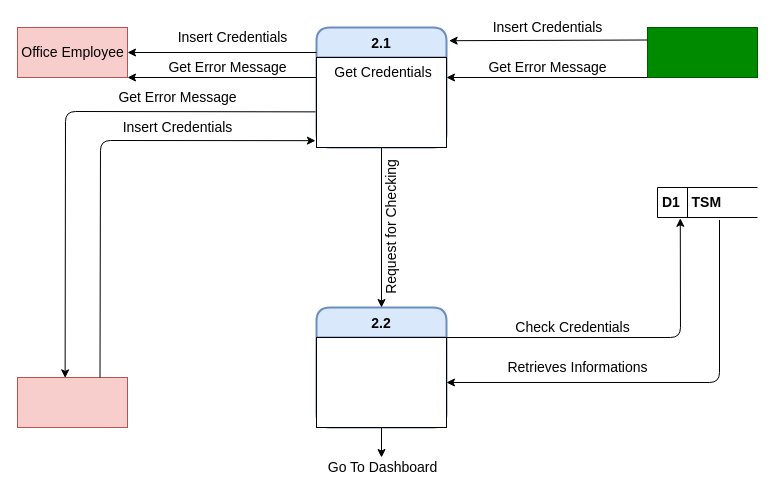
Image size: 775x494. Some labels were removed from this diagram. The box of each missing label's shape, as (x1, y1, x2, y2) in pixels:
Admin: (646, 26, 758, 78)
Driver: (16, 376, 128, 428)
Validation: (316, 336, 446, 428)
